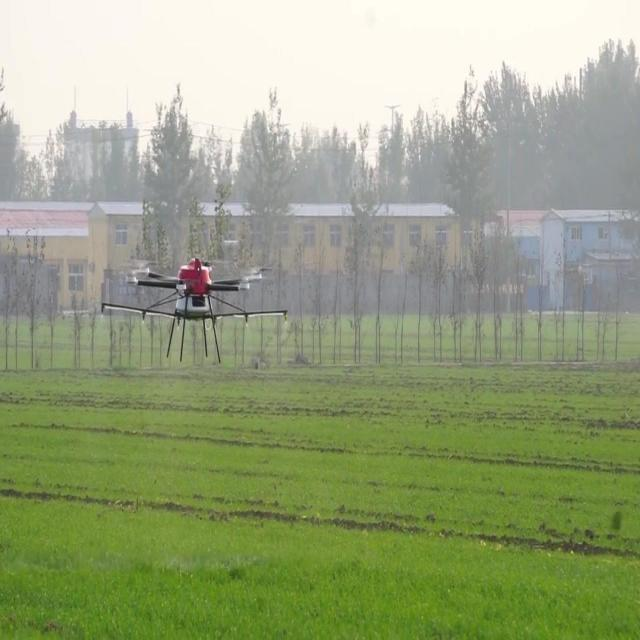UAV: (101, 257, 288, 363)
